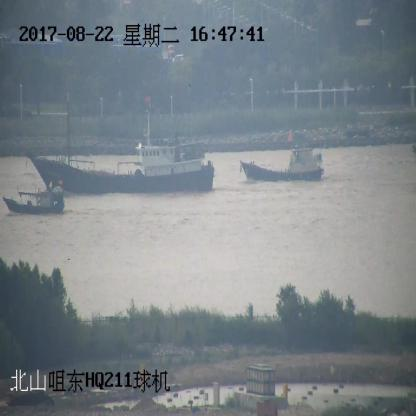Fishing Boat: (28, 90, 216, 194), (241, 132, 324, 182), (4, 184, 64, 217)
